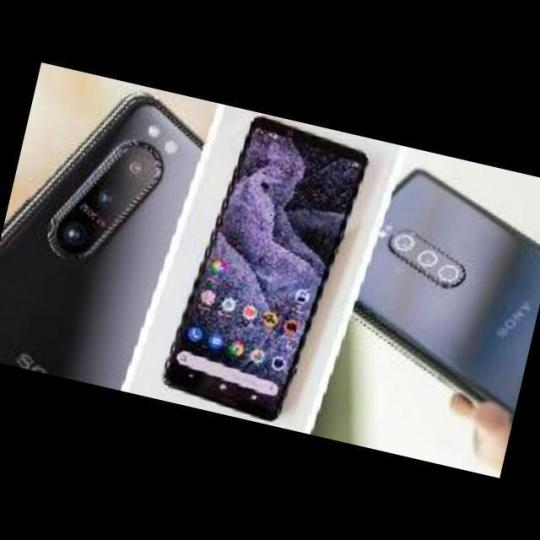phone: (3, 90, 208, 398), (349, 160, 540, 418)
